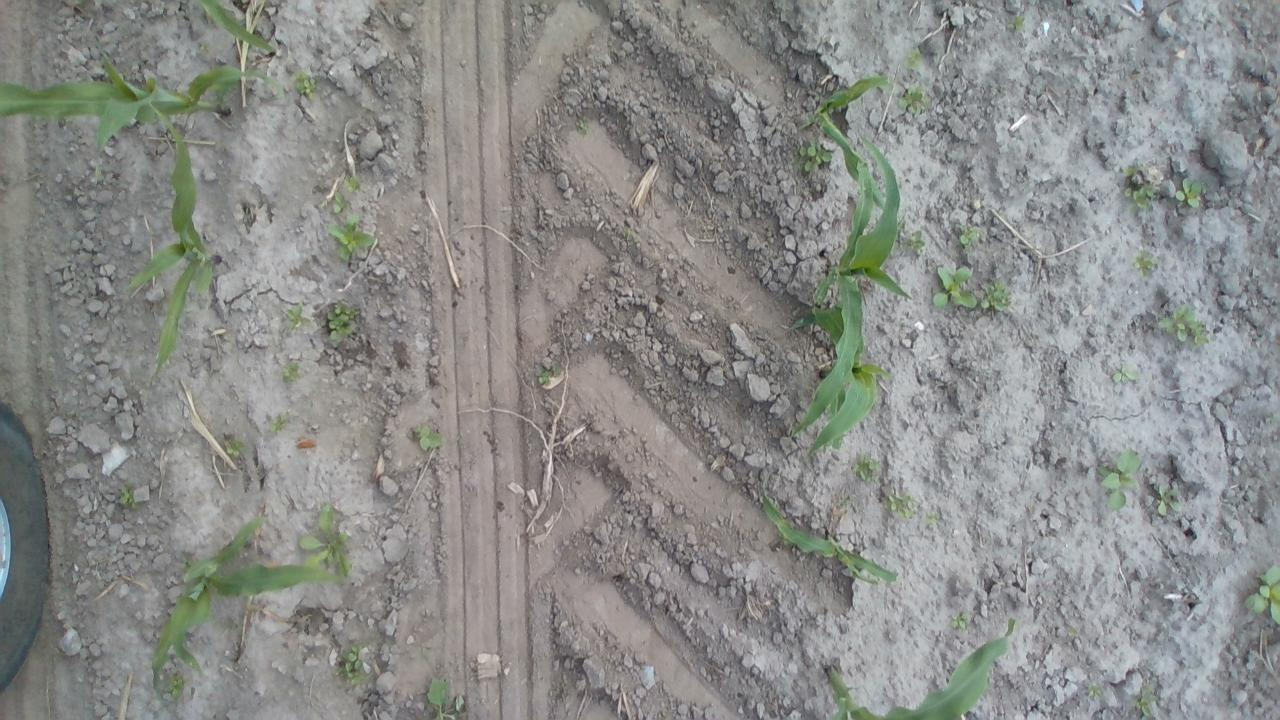Maize: (2, 35, 288, 182), (782, 132, 914, 438), (150, 505, 348, 693), (128, 100, 229, 393), (828, 611, 1018, 720), (754, 467, 898, 584), (796, 71, 897, 219), (812, 299, 891, 464), (199, 0, 277, 55)
Weeds: (296, 499, 354, 577), (1092, 444, 1142, 512), (1156, 300, 1214, 349), (933, 258, 981, 317), (326, 210, 376, 262), (1242, 562, 1280, 627), (323, 300, 368, 346), (426, 676, 464, 720), (792, 134, 834, 173), (334, 641, 368, 683), (977, 278, 1014, 316), (896, 214, 925, 255), (1122, 179, 1155, 215), (882, 487, 918, 519), (852, 448, 884, 483), (900, 82, 931, 116), (1174, 175, 1202, 211), (1128, 249, 1160, 279), (282, 300, 310, 334), (1157, 484, 1185, 518), (1132, 682, 1158, 718), (290, 70, 317, 102), (1109, 363, 1136, 395), (160, 670, 186, 700), (220, 434, 247, 460), (958, 221, 982, 249), (534, 362, 561, 386), (923, 507, 946, 535), (418, 424, 441, 451), (118, 484, 138, 511), (903, 46, 922, 72), (269, 413, 291, 434), (332, 188, 348, 216), (344, 173, 364, 194), (280, 359, 298, 382), (950, 610, 970, 629), (1086, 681, 1104, 700), (1008, 13, 1026, 31), (574, 117, 591, 134), (1124, 162, 1138, 178), (198, 41, 212, 52), (624, 227, 633, 243)
